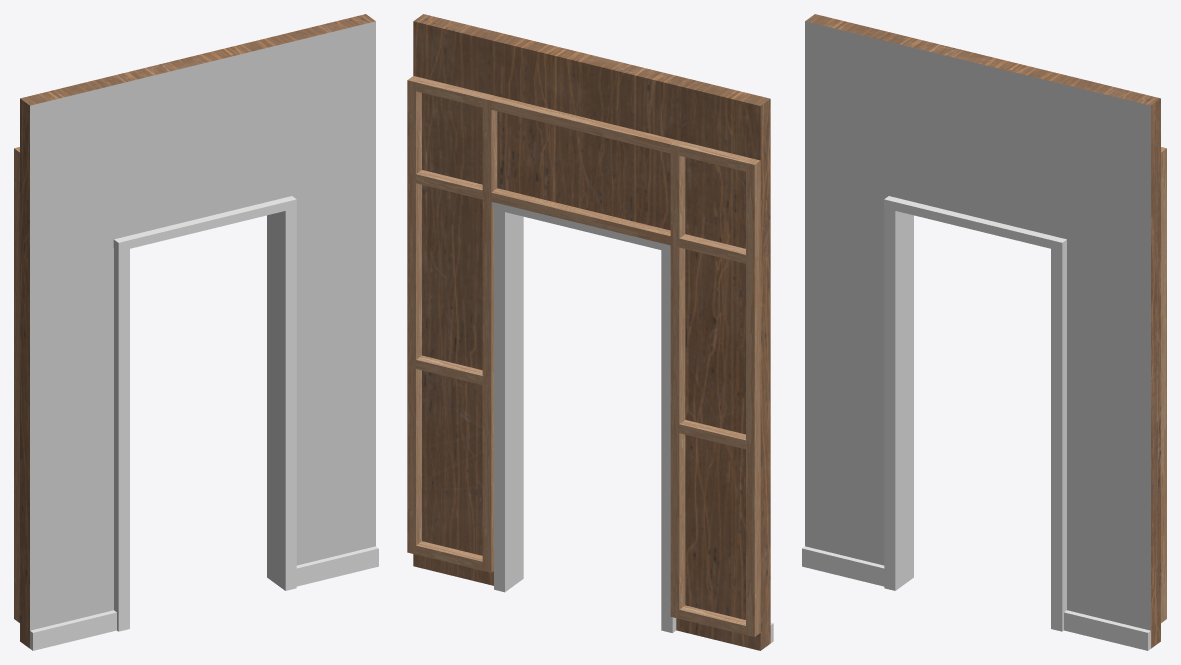
The model's file is MovieSet_WallDoor.fbx.
3 views of the same model, side by side, from view 1: azimuth 30°, elevation 25°; view 2: azimuth 150°, elevation 25°; view 3: azimuth 330°, elevation 25° (orthographic).
Visible parts, largest first — view 1: MovieSet_WallDoor; view 2: MovieSet_WallDoor; view 3: MovieSet_WallDoor.
Part boxes in pixels (x1=…): MovieSet_WallDoor: x1=14, y1=14, x2=378, y2=650; MovieSet_WallDoor: x1=407, y1=14, x2=773, y2=650; MovieSet_WallDoor: x1=802, y1=14, x2=1166, y2=650.
Size of the model in its own units: 2 by 3 by 0.2071.
